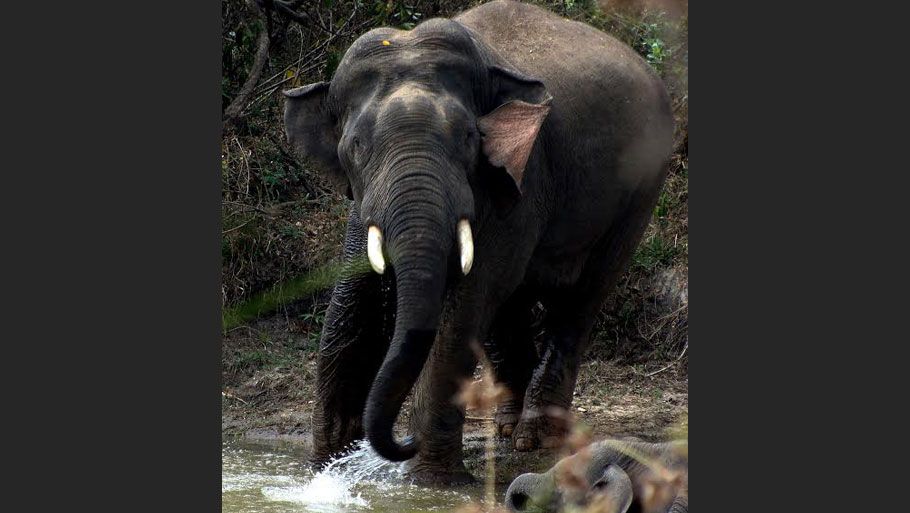Indian Elephant: (274, 5, 677, 482)
